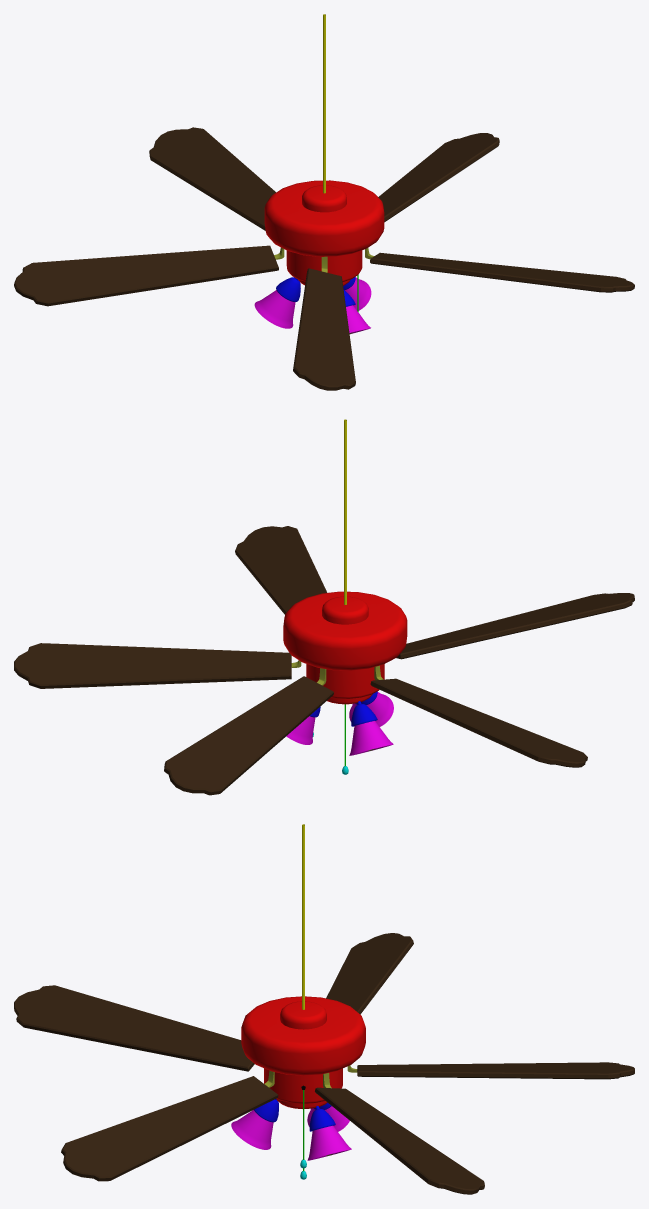
Rendered from Ceiling Fan.fbx.
3 views of the same model, one above another, from view 1: azimuth 30°, elevation 25°; view 2: azimuth 150°, elevation 25°; view 3: azimuth 270°, elevation 25° (orthographic). The views are drawn at different scales.
Visible parts, largest first — view 1: Group_3_Fan_Move_Blades_FanBladeSet_Fan, Group_3_Fan_CableSet_Cable; view 2: Group_3_Fan_Move_Blades_FanBladeSet_Fan, Group_3_Fan_CableSet_Cable; view 3: Group_3_Fan_Move_Blades_FanBladeSet_Fan, Group_3_Fan_CableSet_Cable.
Part boxes in pixels (left/top/right/bottom): Group_3_Fan_Move_Blades_FanBladeSet_Fan: left=14, top=127, right=634, bottom=390; Group_3_Fan_CableSet_Cable: left=254, top=14, right=384, bottom=334; Group_3_Fan_Move_Blades_FanBladeSet_Fan: left=14, top=526, right=634, bottom=795; Group_3_Fan_CableSet_Cable: left=283, top=419, right=407, bottom=774; Group_3_Fan_Move_Blades_FanBladeSet_Fan: left=14, top=933, right=634, bottom=1194; Group_3_Fan_CableSet_Cable: left=231, top=824, right=365, bottom=1179.
Bounding box in the file's own units: 33.4 × 21.37 × 33.94.
